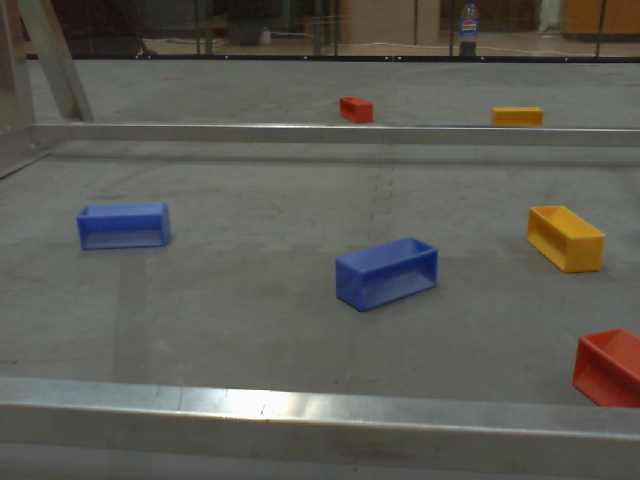BlueSample: (331, 231, 442, 315), (77, 200, 174, 252)
RedSample: (571, 321, 640, 411), (337, 94, 375, 126)
YellowSample: (523, 203, 606, 274), (488, 106, 546, 127)
